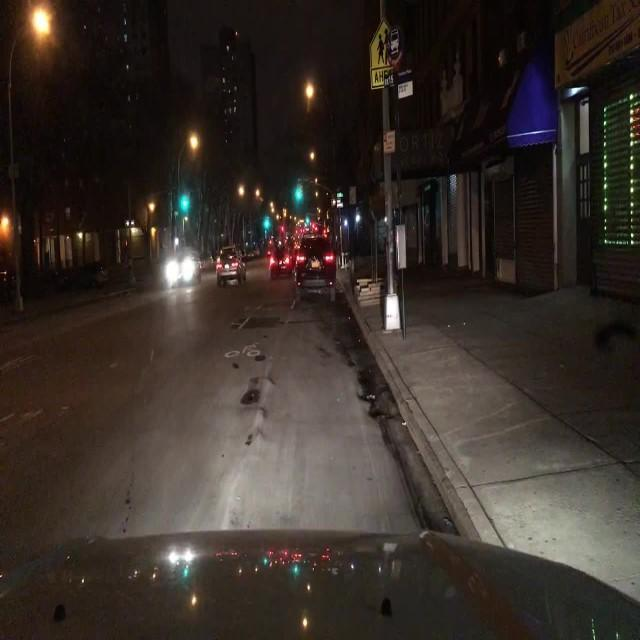normal: (255, 227, 355, 311), (215, 248, 247, 288)
